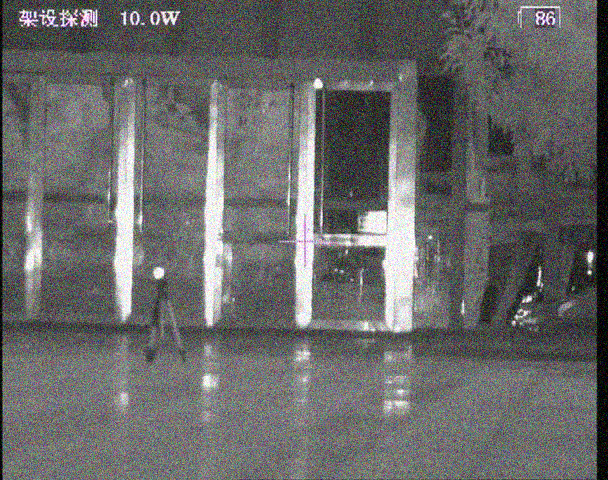my: (152, 266, 165, 281)
